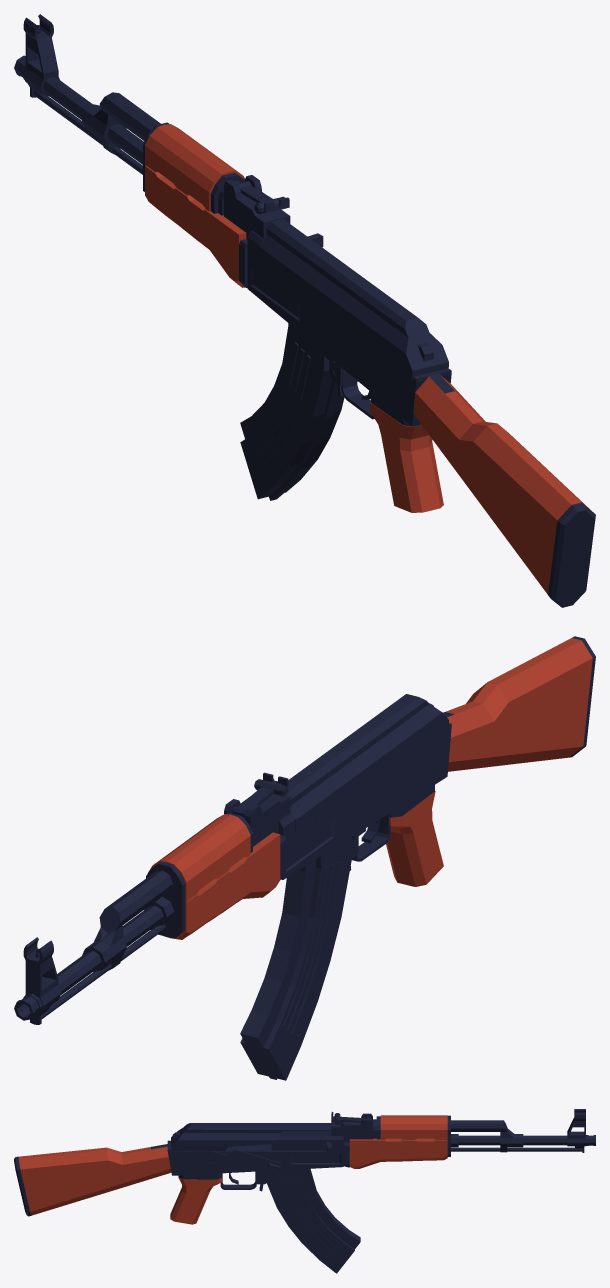
The model's file is akm.FBX.
3 views of the same model, one above another, from view 1: azimuth 30°, elevation 25°; view 2: azimuth 150°, elevation 25°; view 3: azimuth 270°, elevation 25° (orthographic). The views are drawn at different scales.
Parts seen in each view (by area): view 1: AK, Magazine; view 2: AK, Magazine; view 3: AK, Magazine, Bolt, Selector.
Part boxes in pixels (box(x1,y1,x2,y2)): AK: box(14, 14, 595, 607); Magazine: box(240, 323, 344, 500); AK: box(14, 636, 595, 1024); Magazine: box(240, 837, 352, 1080); AK: box(14, 1109, 595, 1224); Magazine: box(267, 1168, 360, 1273); Bolt: box(271, 1130, 332, 1153); Selector: box(207, 1149, 281, 1170).
Bounding box in the file's own units: 3.66 × 16.94 × 55.53.
